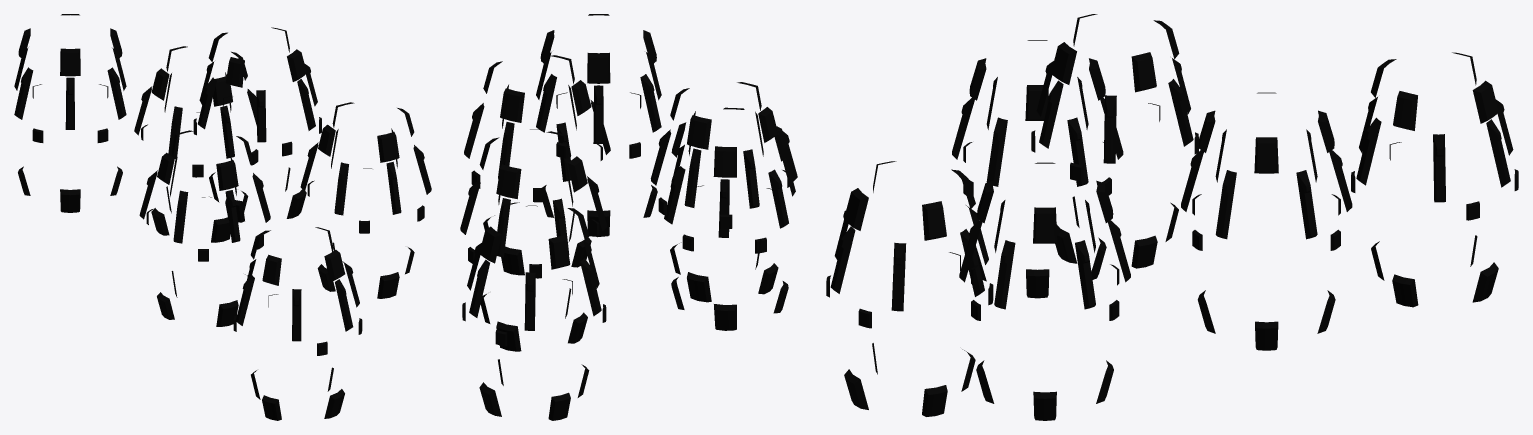
Rendered from prop_static_yao_container_01_03_0.glb.
The picture shows the model from 3 angles, left to right: view 1: azimuth 30°, elevation 25°; view 2: azimuth 150°, elevation 25°; view 3: azimuth 270°, elevation 25°; orthographic projection. The views are drawn at different scales.
Visible parts, largest first — view 1: yao_container_01_03_LOD0; view 2: yao_container_01_03_LOD0; view 3: yao_container_01_03_LOD0.
Boxes of the visible parts, x1,y1,x2,y2 form: yao_container_01_03_LOD0: (14, 14, 431, 420); yao_container_01_03_LOD0: (460, 14, 797, 420); yao_container_01_03_LOD0: (826, 14, 1518, 420).
Size of what is drawn, in the model's own units: 4.79 by 5.18 by 8.42.
1 material, 1 textured.
